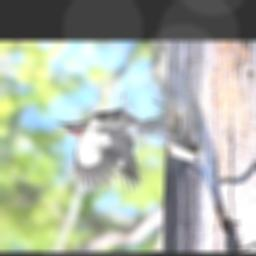Woodpecker: (52, 91, 172, 192)
